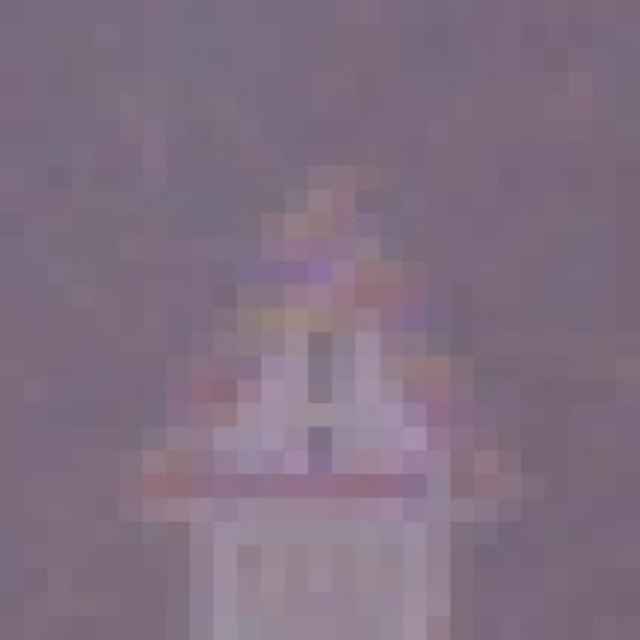Attention Please-: (72, 118, 546, 570)
